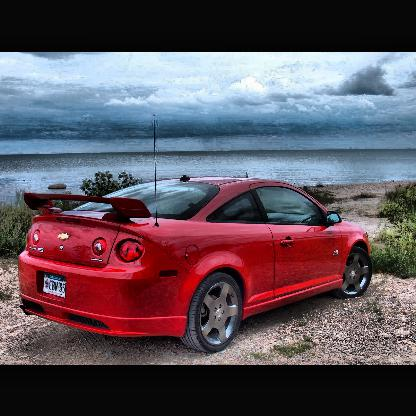Chevrolet Cobalt SS 2010: (13, 115, 377, 358)
